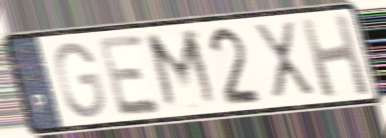2: (206, 23, 265, 110)
E: (94, 31, 166, 119)
G: (52, 39, 108, 121)
H: (296, 10, 374, 101)
M: (141, 27, 224, 115)
X: (250, 17, 320, 101)
